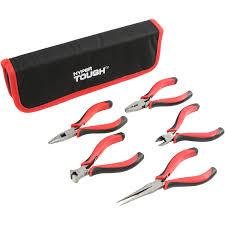pliers: (114, 146, 217, 206), (46, 98, 127, 145), (154, 102, 224, 146), (123, 75, 194, 112)
